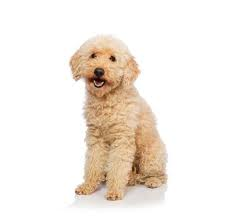Bulldog: (48, 27, 185, 205)
